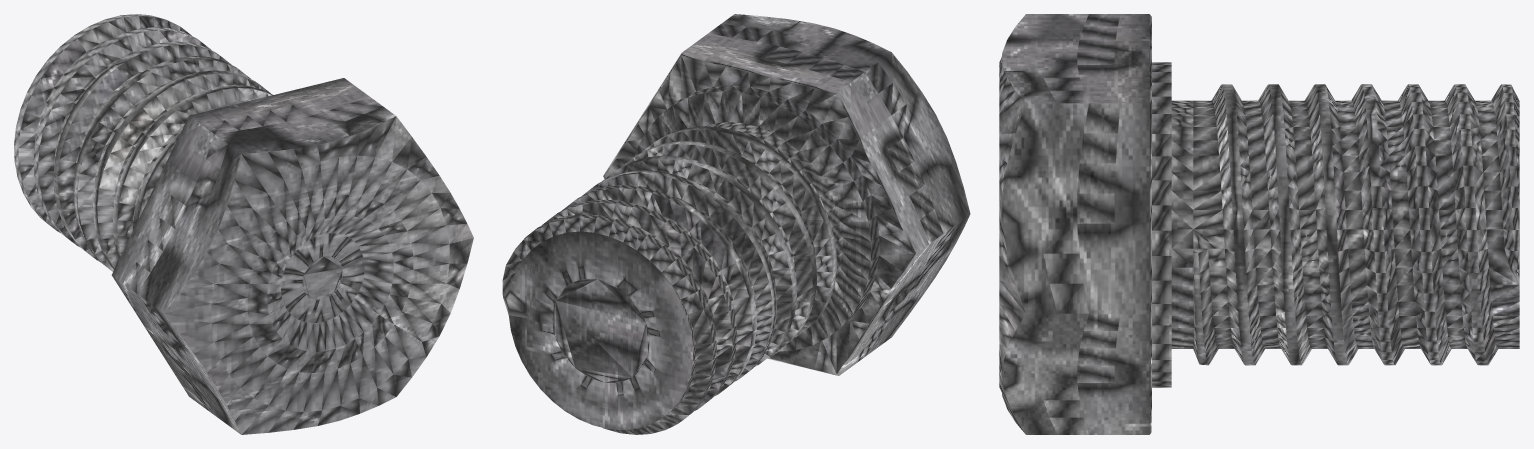
The model's file is boltUnity.fbx.
The picture shows the model from 3 angles, left to right: view 1: azimuth 30°, elevation 25°; view 2: azimuth 150°, elevation 25°; view 3: azimuth 270°, elevation 25°; orthographic projection. The views are drawn at different scales.
Parts seen in each view (by area): view 1: Helix01; view 2: Helix01; view 3: Helix01.
Boxes of the visible parts, x1,y1,x2,y2 form: Helix01: (14, 14, 473, 434); Helix01: (502, 14, 970, 434); Helix01: (999, 14, 1519, 434).
Bounding box in the file's own units: 0.6693 × 0.5796 × 0.8235.
Materials: 1 (1 with a texture image).
